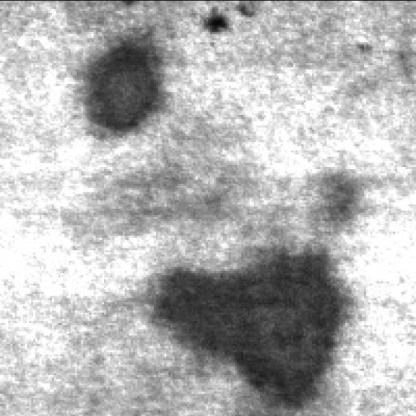patches: (146, 256, 345, 410), (79, 42, 156, 137)
